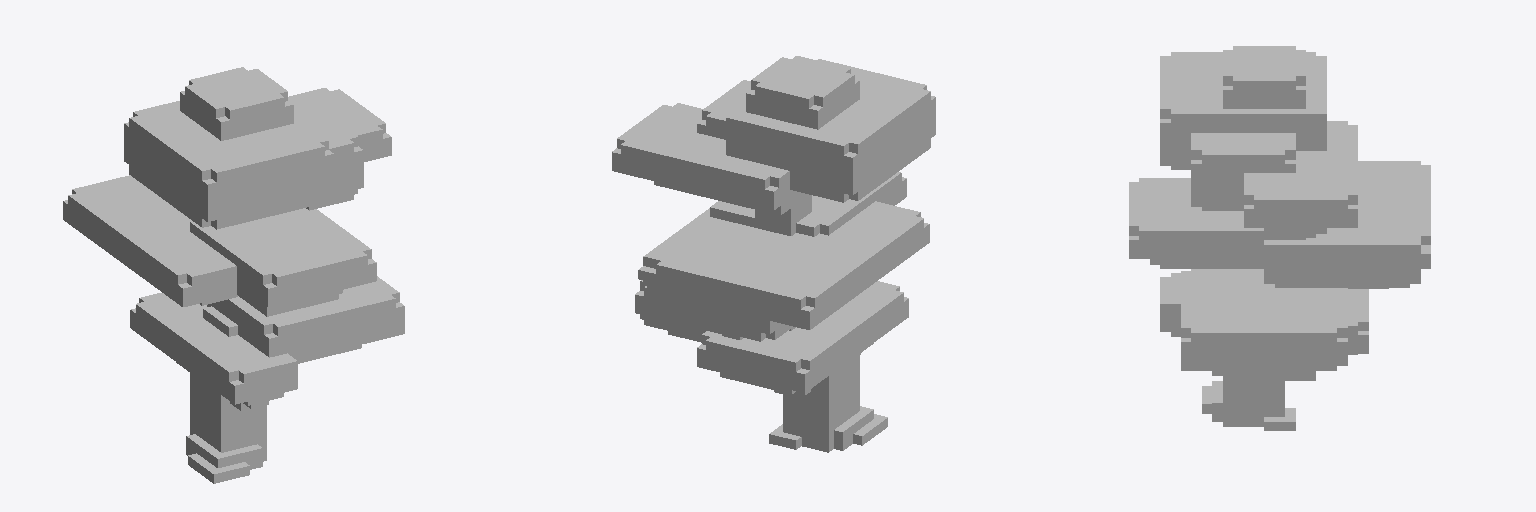
Rendered from 2022 Torii (Wheezy Woods)-20.obj.
3 views of the same model, side by side, from view 1: azimuth 30°, elevation 25°; view 2: azimuth 150°, elevation 25°; view 3: azimuth 270°, elevation 25° (orthographic).
Visible parts, largest first — view 1: object 1; view 2: object 1; view 3: object 1.
Boxes of the visible parts, <box> form: object 1: <box>63,67,404,483</box>; object 1: <box>612,56,935,452</box>; object 1: <box>1129,46,1430,430</box>.
Bounding box in the file's own units: 2.6 × 3.8 × 2.9.